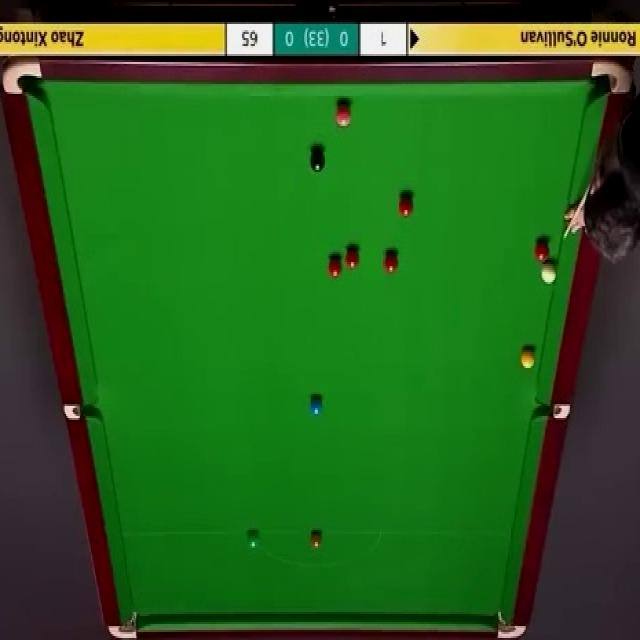black-ball: (309, 148, 325, 174)
blue-ball: (309, 395, 324, 418)
brown-ball: (310, 530, 323, 549)
green-ball: (247, 528, 259, 550)
pink-ball: (334, 102, 353, 129)
red-ball: (534, 238, 551, 265), (382, 248, 398, 276), (397, 194, 415, 218), (344, 243, 360, 270), (328, 254, 342, 279)
white-ball: (542, 262, 557, 287)
yellow-ball: (521, 346, 536, 370)
